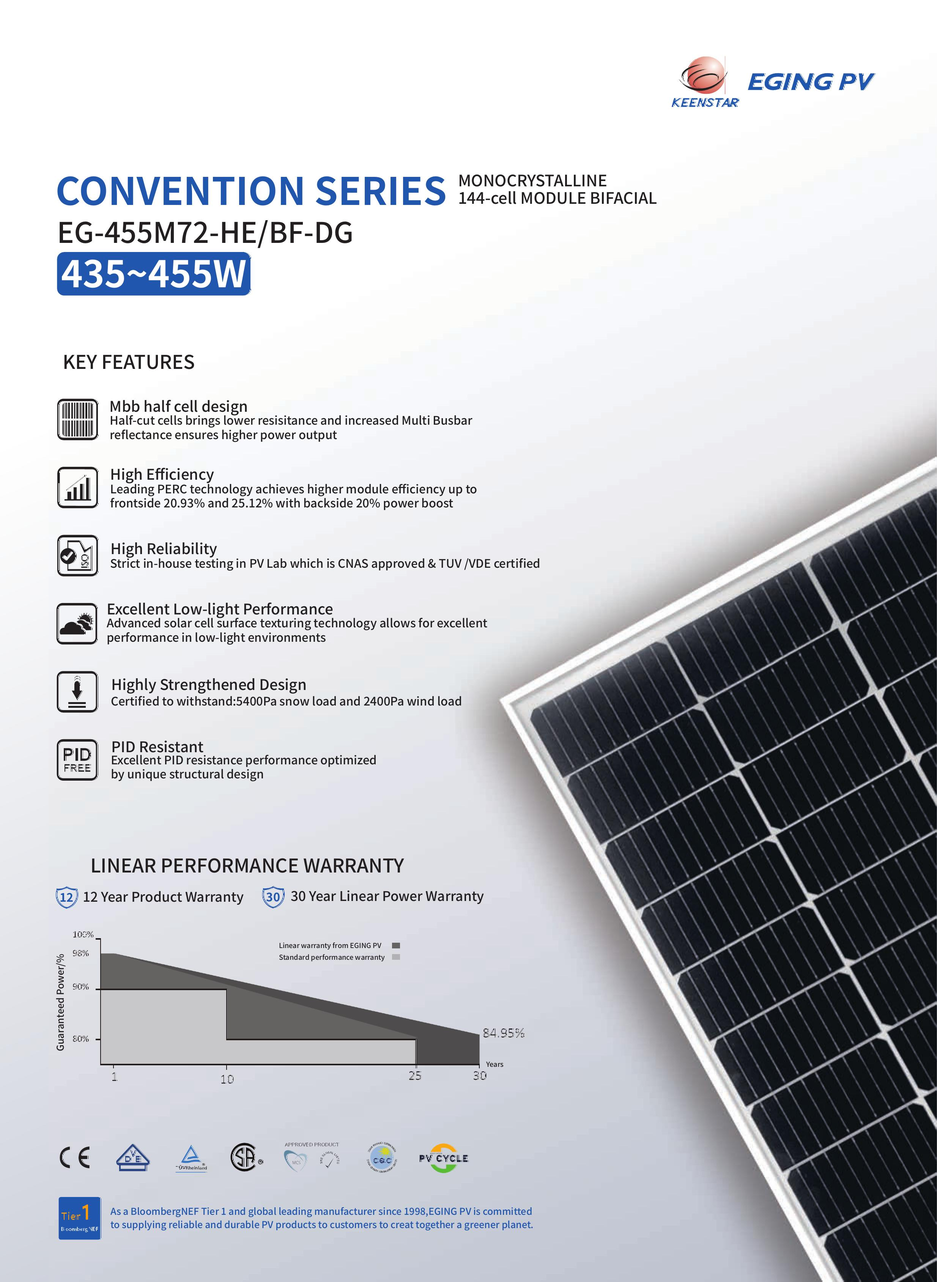no object: (64, 925, 537, 1085)
